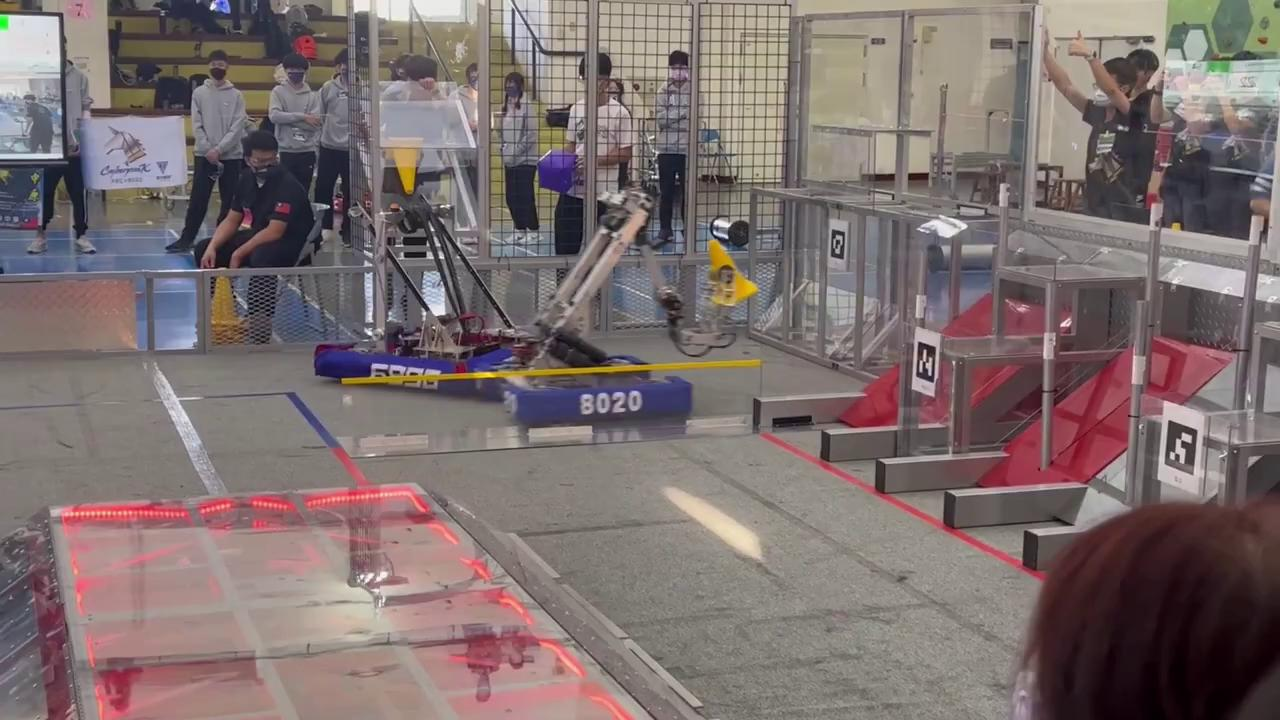robot: (497, 188, 693, 425), (313, 201, 535, 400)
